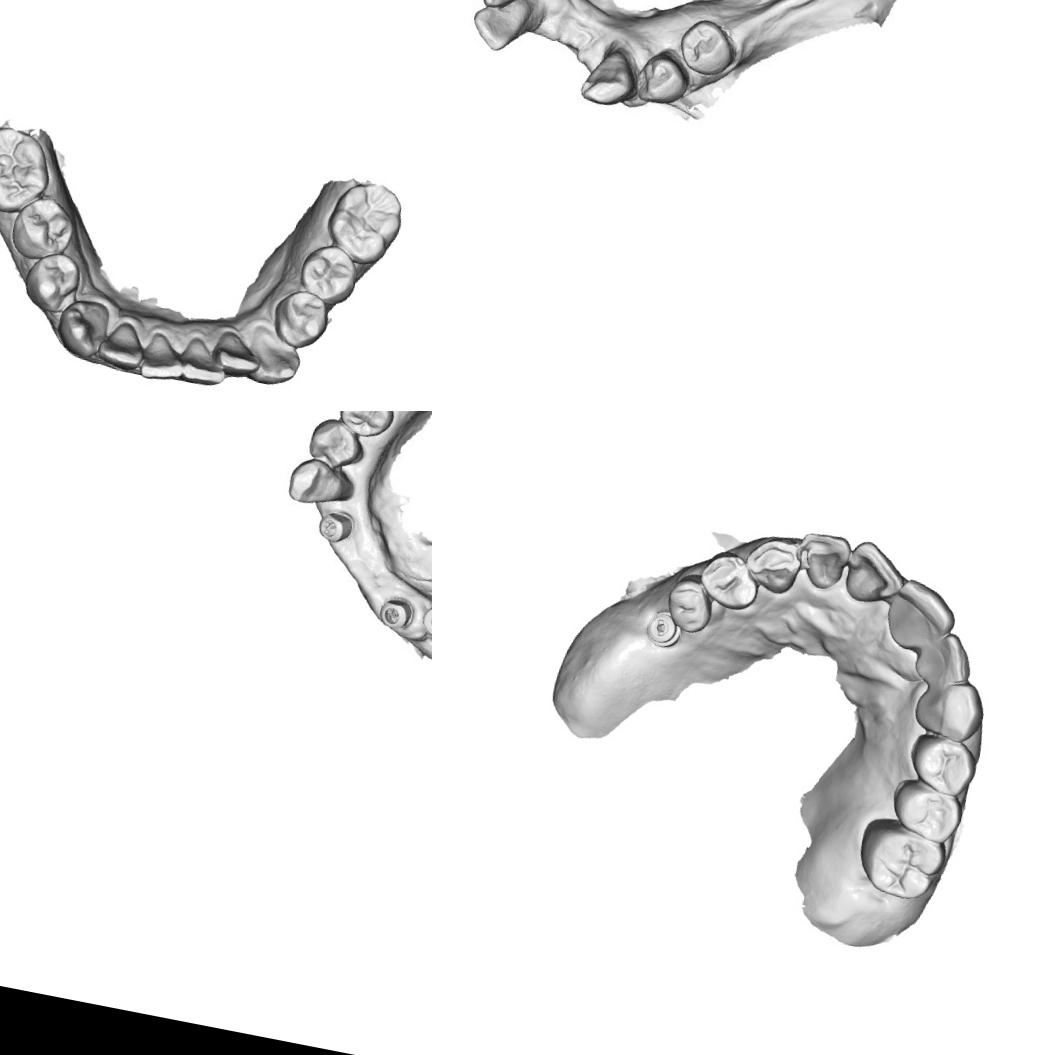canine: (907, 670, 987, 744), (282, 454, 358, 518), (50, 292, 112, 366), (240, 322, 306, 391), (740, 530, 804, 598), (574, 42, 638, 108)
implant: (314, 508, 358, 554), (373, 594, 413, 633), (420, 601, 432, 641)
implant_minus: (642, 605, 683, 651)
incisor: (880, 573, 960, 657), (837, 535, 909, 610), (907, 625, 982, 697), (790, 526, 856, 596), (466, 0, 533, 57), (173, 331, 232, 392), (94, 315, 152, 376), (134, 326, 190, 389), (209, 325, 265, 380)
molar: (848, 812, 951, 908), (320, 176, 406, 271), (0, 118, 59, 221)
premolar: (3, 192, 84, 268), (886, 776, 968, 848), (900, 732, 980, 800), (14, 247, 88, 319), (675, 10, 747, 81), (264, 284, 334, 355), (294, 239, 362, 309), (696, 547, 762, 612), (632, 45, 694, 112), (660, 571, 718, 635), (303, 414, 364, 470), (337, 411, 396, 439)
